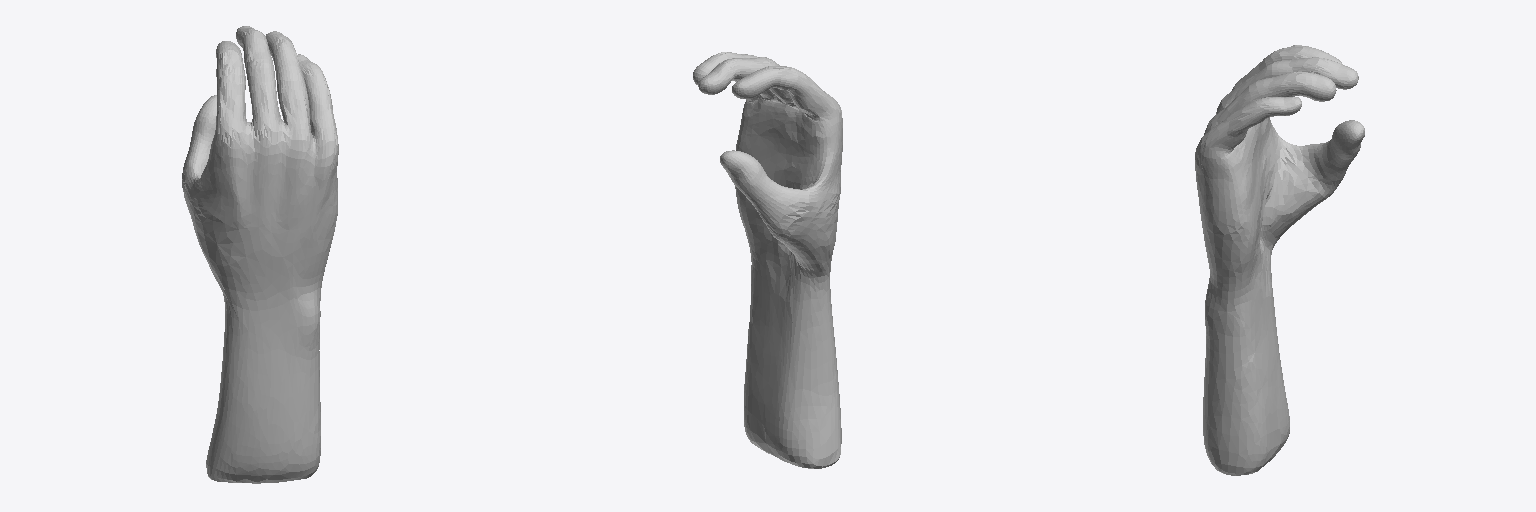
The model's file is mainc.obj.
3 renders of one model, left to right at view 1: azimuth 30°, elevation 25°; view 2: azimuth 150°, elevation 25°; view 3: azimuth 270°, elevation 25°, orthographic.
Parts seen in each view (by area): view 1: ZBrush_defualt_group; view 2: ZBrush_defualt_group; view 3: ZBrush_defualt_group.
Part boxes in pixels (bbox=[...]): ZBrush_defualt_group: bbox=[182, 26, 338, 483]; ZBrush_defualt_group: bbox=[693, 52, 842, 468]; ZBrush_defualt_group: bbox=[1195, 45, 1364, 475].
Size of the model in its own units: 2.58 by 8.42 by 3.16.